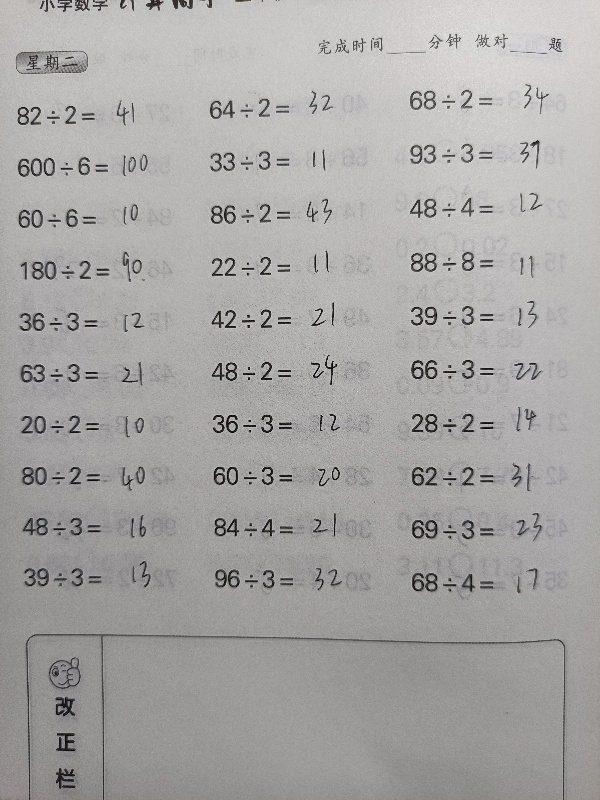equation: (403, 565, 583, 600), (206, 561, 386, 596), (15, 560, 195, 595), (403, 512, 583, 547), (403, 459, 583, 494), (403, 406, 583, 441), (11, 355, 191, 390), (402, 352, 582, 387), (401, 298, 581, 333), (13, 253, 193, 288), (401, 244, 581, 279), (201, 196, 381, 231), (401, 191, 581, 226), (8, 148, 188, 183), (201, 143, 381, 178), (401, 136, 581, 171), (400, 82, 580, 117), (206, 510, 386, 544), (13, 510, 193, 544), (205, 459, 385, 493), (13, 459, 193, 493), (13, 408, 193, 442), (204, 407, 384, 441), (202, 354, 382, 388), (11, 304, 191, 338), (203, 302, 383, 336), (202, 249, 382, 283), (9, 201, 189, 235), (8, 98, 188, 132), (200, 91, 380, 125)
